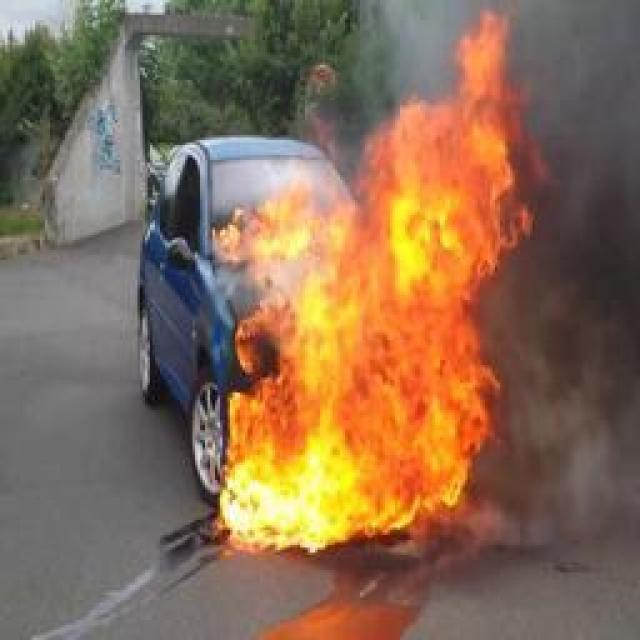Fire: (214, 5, 544, 555)
